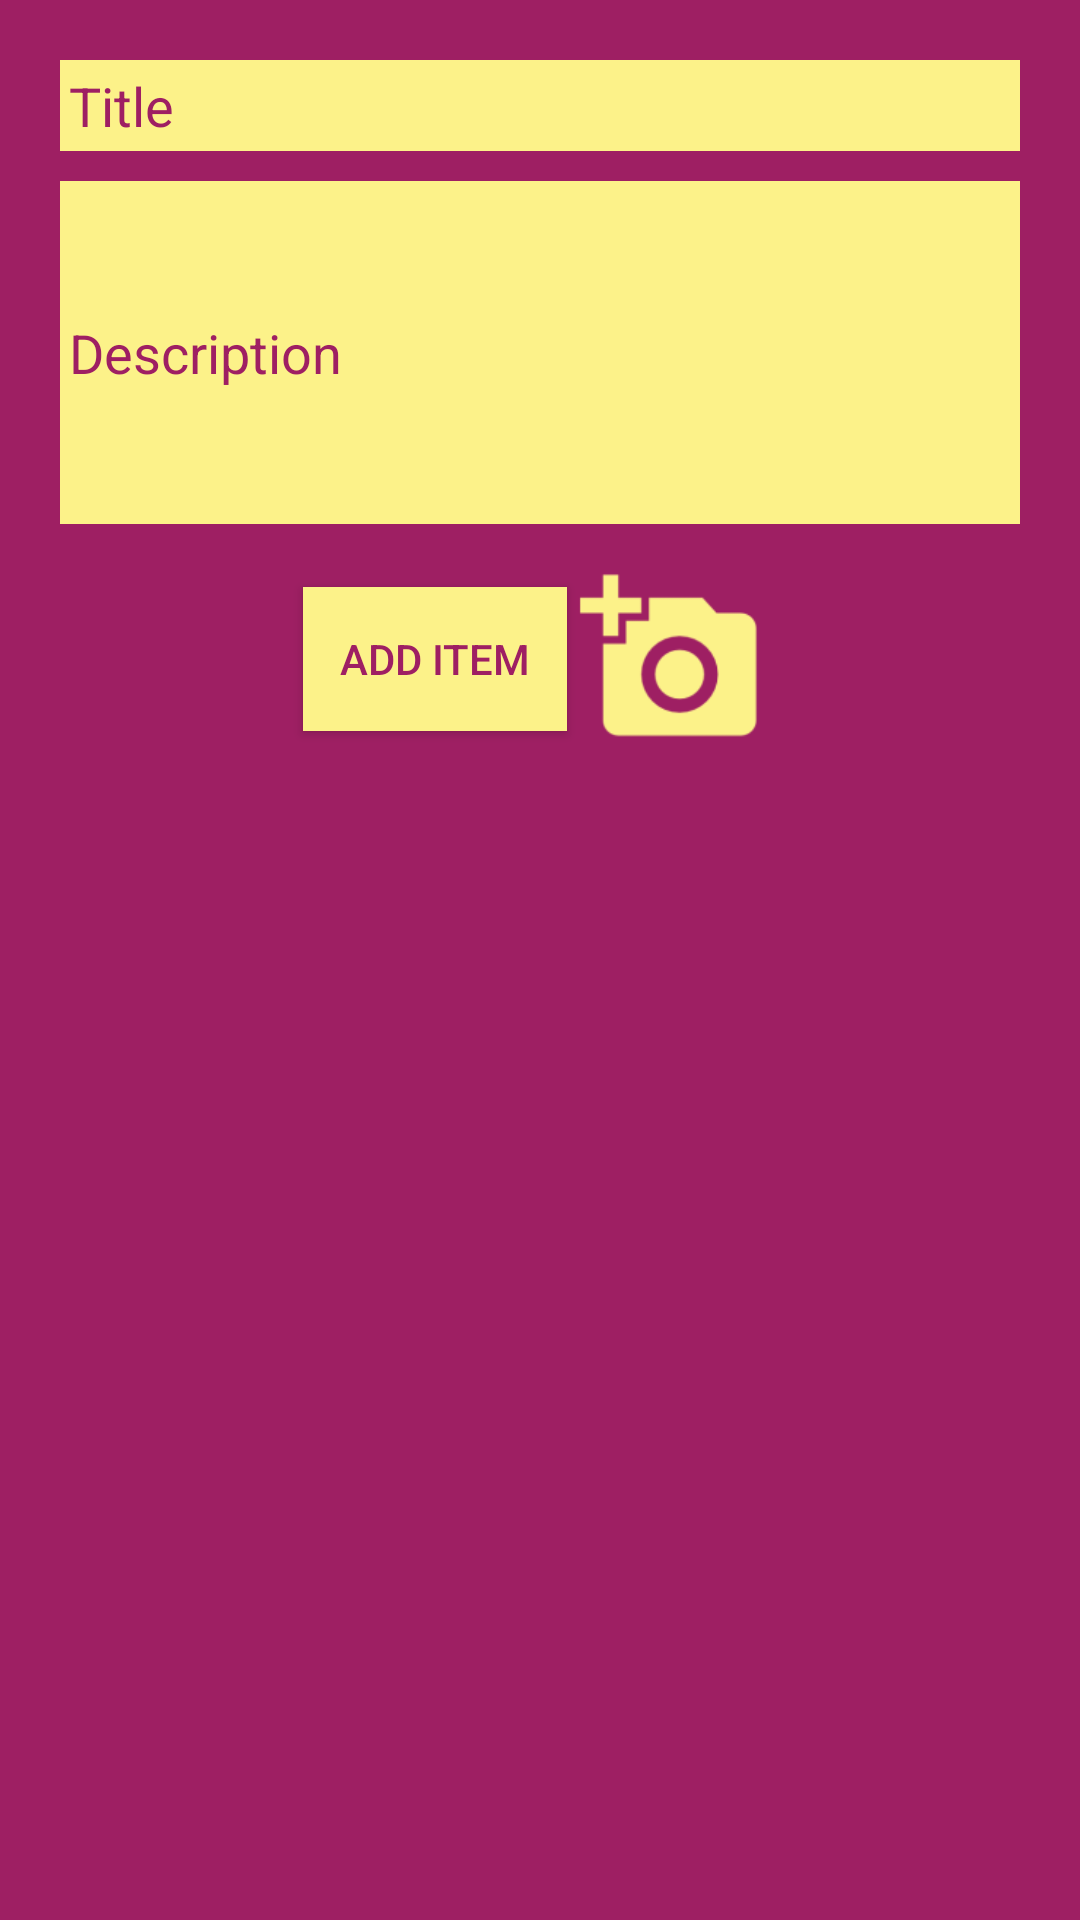

Where to tap for icons on this 1080*1920 app screen, as [x,y]:
addphoto: [668,655]
